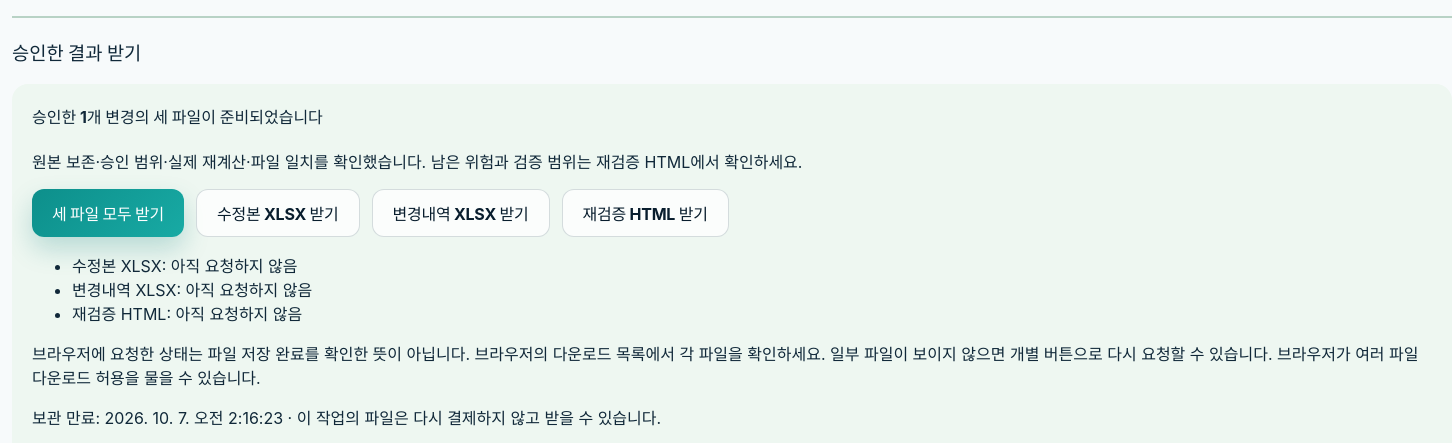
Test: proposal-led UI contracts, not actual engine evidence › starts all three ready downloads from one explicit click and keeps fallback buttons
Expected: the button "수정본 XLSX 받기" is shown, [196,189,360,237]
Click the button "세 파일 모두 받기" at (108, 213), box [32,189,184,237]
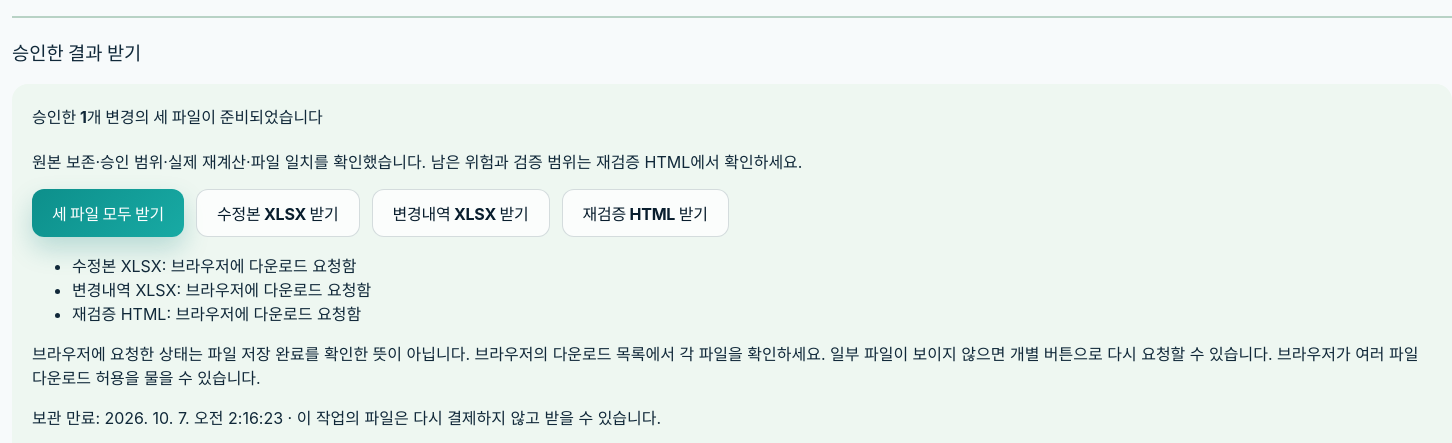
Expected: the text "파일 저장 완료를 확인한 뜻이 아닙니다" is shown, [32,344,1418,388]
Result: the list named "파일별 다운로드 요청 상태" shows "수정본 XLSX: 브라우저에 다운로드 요청함" at [72,256,371,324]
Result: the list named "파일별 다운로드 요청 상태" shows "변경내역 XLSX: 브라우저에 다운로드 요청함" at [72,256,371,324]
